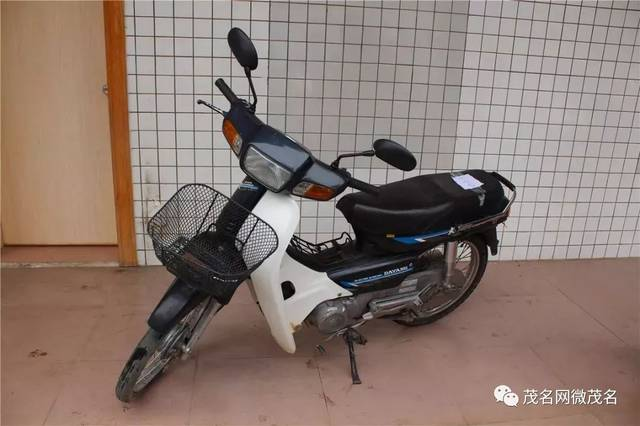电动车: (112, 25, 525, 407)
